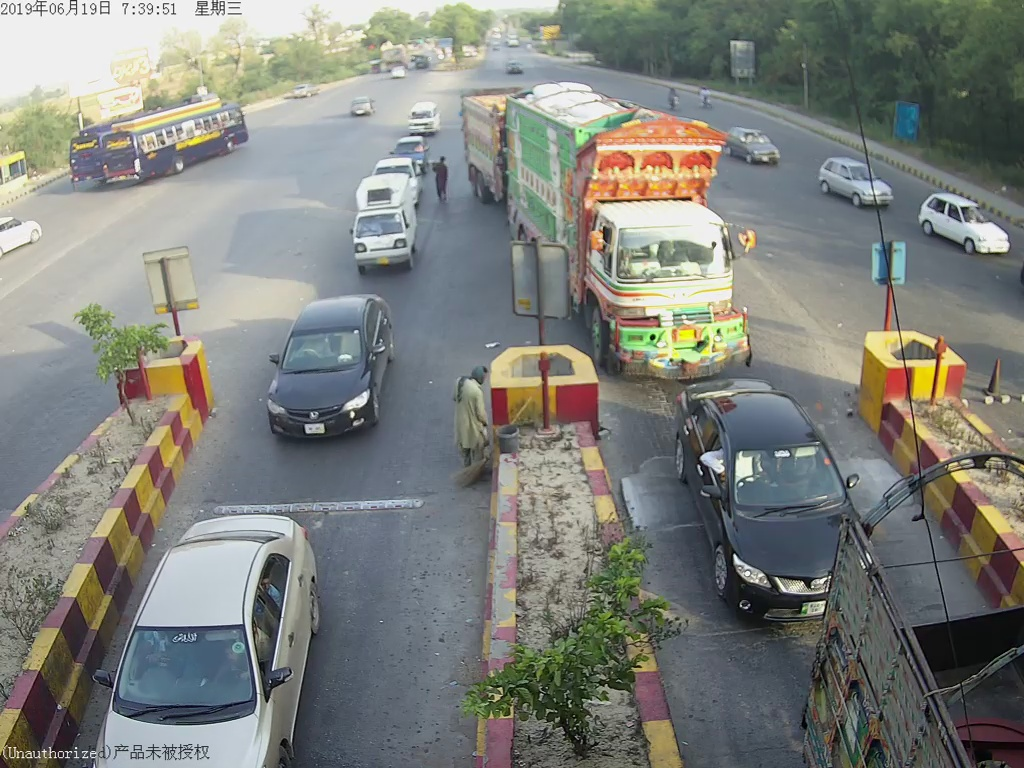Cat-1: (678, 390, 821, 627), (270, 295, 397, 440), (345, 186, 424, 274)
Cat-4: (500, 76, 758, 381)
